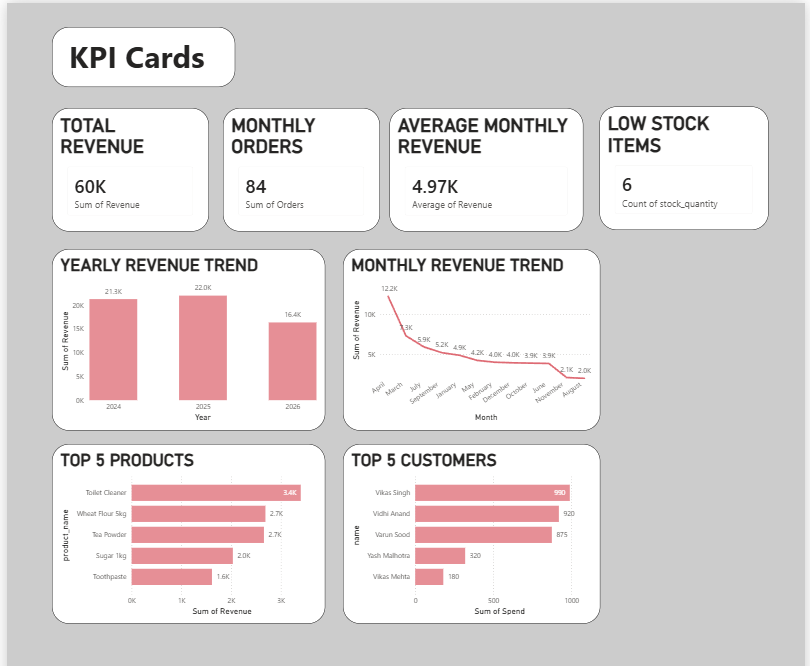

Layout of this report page (visuals, bound fields, positions):
{"tool":"powerbi","page":{"name":"Executive Summary","canvas":[1400,1400],"ordinal":0},"visuals":[{"type":"cardVisual","title":"TOTAL REVENUE","fields":{"Data":["Sum(yearly_sales.Revenue)"]},"box":[78.4,183.5,275.3,216.5],"z":0},{"type":"textbox","box":[78.4,41.2,321.7,105.2],"z":1000},{"type":"cardVisual","title":"MONTHLY ORDERS","fields":{"Data":["Sum(monthly_sales.Orders)"]},"box":[378.4,183.5,275.3,216.5],"z":2000},{"type":"cardVisual","title":"AVERAGE MONTHLY REVENUE","fields":{"Data":["Avg(monthly_sales.Revenue)"]},"box":[672.2,183.5,340.2,216.5],"z":3000},{"type":"cardVisual","title":"LOW STOCK ITEMS","fields":{"Data":["CountNonNull(low_stock.stock_quantity)"]},"box":[1039.2,182.5,296.9,216.5],"z":4000},{"type":"clusteredColumnChart","title":"YEARLY REVENUE TREND","fields":{"Category":["yearly_sales.Year"],"Y":["Sum(yearly_sales.Revenue)"]},"box":[78.4,430.9,479.4,318.6],"z":5000},{"type":"lineChart","title":"MONTHLY REVENUE TREND","fields":{"Category":["monthly_sales.Month"],"Y":["Sum(monthly_sales.Revenue)"]},"box":[588.7,430.9,451.6,318.6],"z":6000},{"type":"clusteredBarChart","title":"TOP 5 PRODUCTS","fields":{"Category":["top_products.product_name"],"Y":["Sum(top_products.Revenue)"]},"box":[78.4,774.2,479.4,315.5],"z":7000},{"type":"clusteredBarChart","title":"TOP 5 CUSTOMERS","fields":{"Y":["Sum(customers.Spend)"],"Category":["customers.name"]},"box":[588.7,774.2,451.6,315.5],"z":8000}]}

Visuals, with their boxes on the page's 1400x1400 design canvas (x1, y1, x2, y2). These are canvas units, not pixel positions in the 810x666 screenshot, which may show the page scaled, cropped or inside an application window:
"TOTAL REVENUE" cardVisual: bbox=(78, 184, 354, 400)
textbox: bbox=(78, 41, 400, 146)
"MONTHLY ORDERS" cardVisual: bbox=(378, 184, 654, 400)
"AVERAGE MONTHLY REVENUE" cardVisual: bbox=(672, 184, 1012, 400)
"LOW STOCK ITEMS" cardVisual: bbox=(1039, 182, 1336, 399)
"YEARLY REVENUE TREND" clusteredColumnChart: bbox=(78, 431, 558, 750)
"MONTHLY REVENUE TREND" lineChart: bbox=(589, 431, 1040, 750)
"TOP 5 PRODUCTS" clusteredBarChart: bbox=(78, 774, 558, 1090)
"TOP 5 CUSTOMERS" clusteredBarChart: bbox=(589, 774, 1040, 1090)
